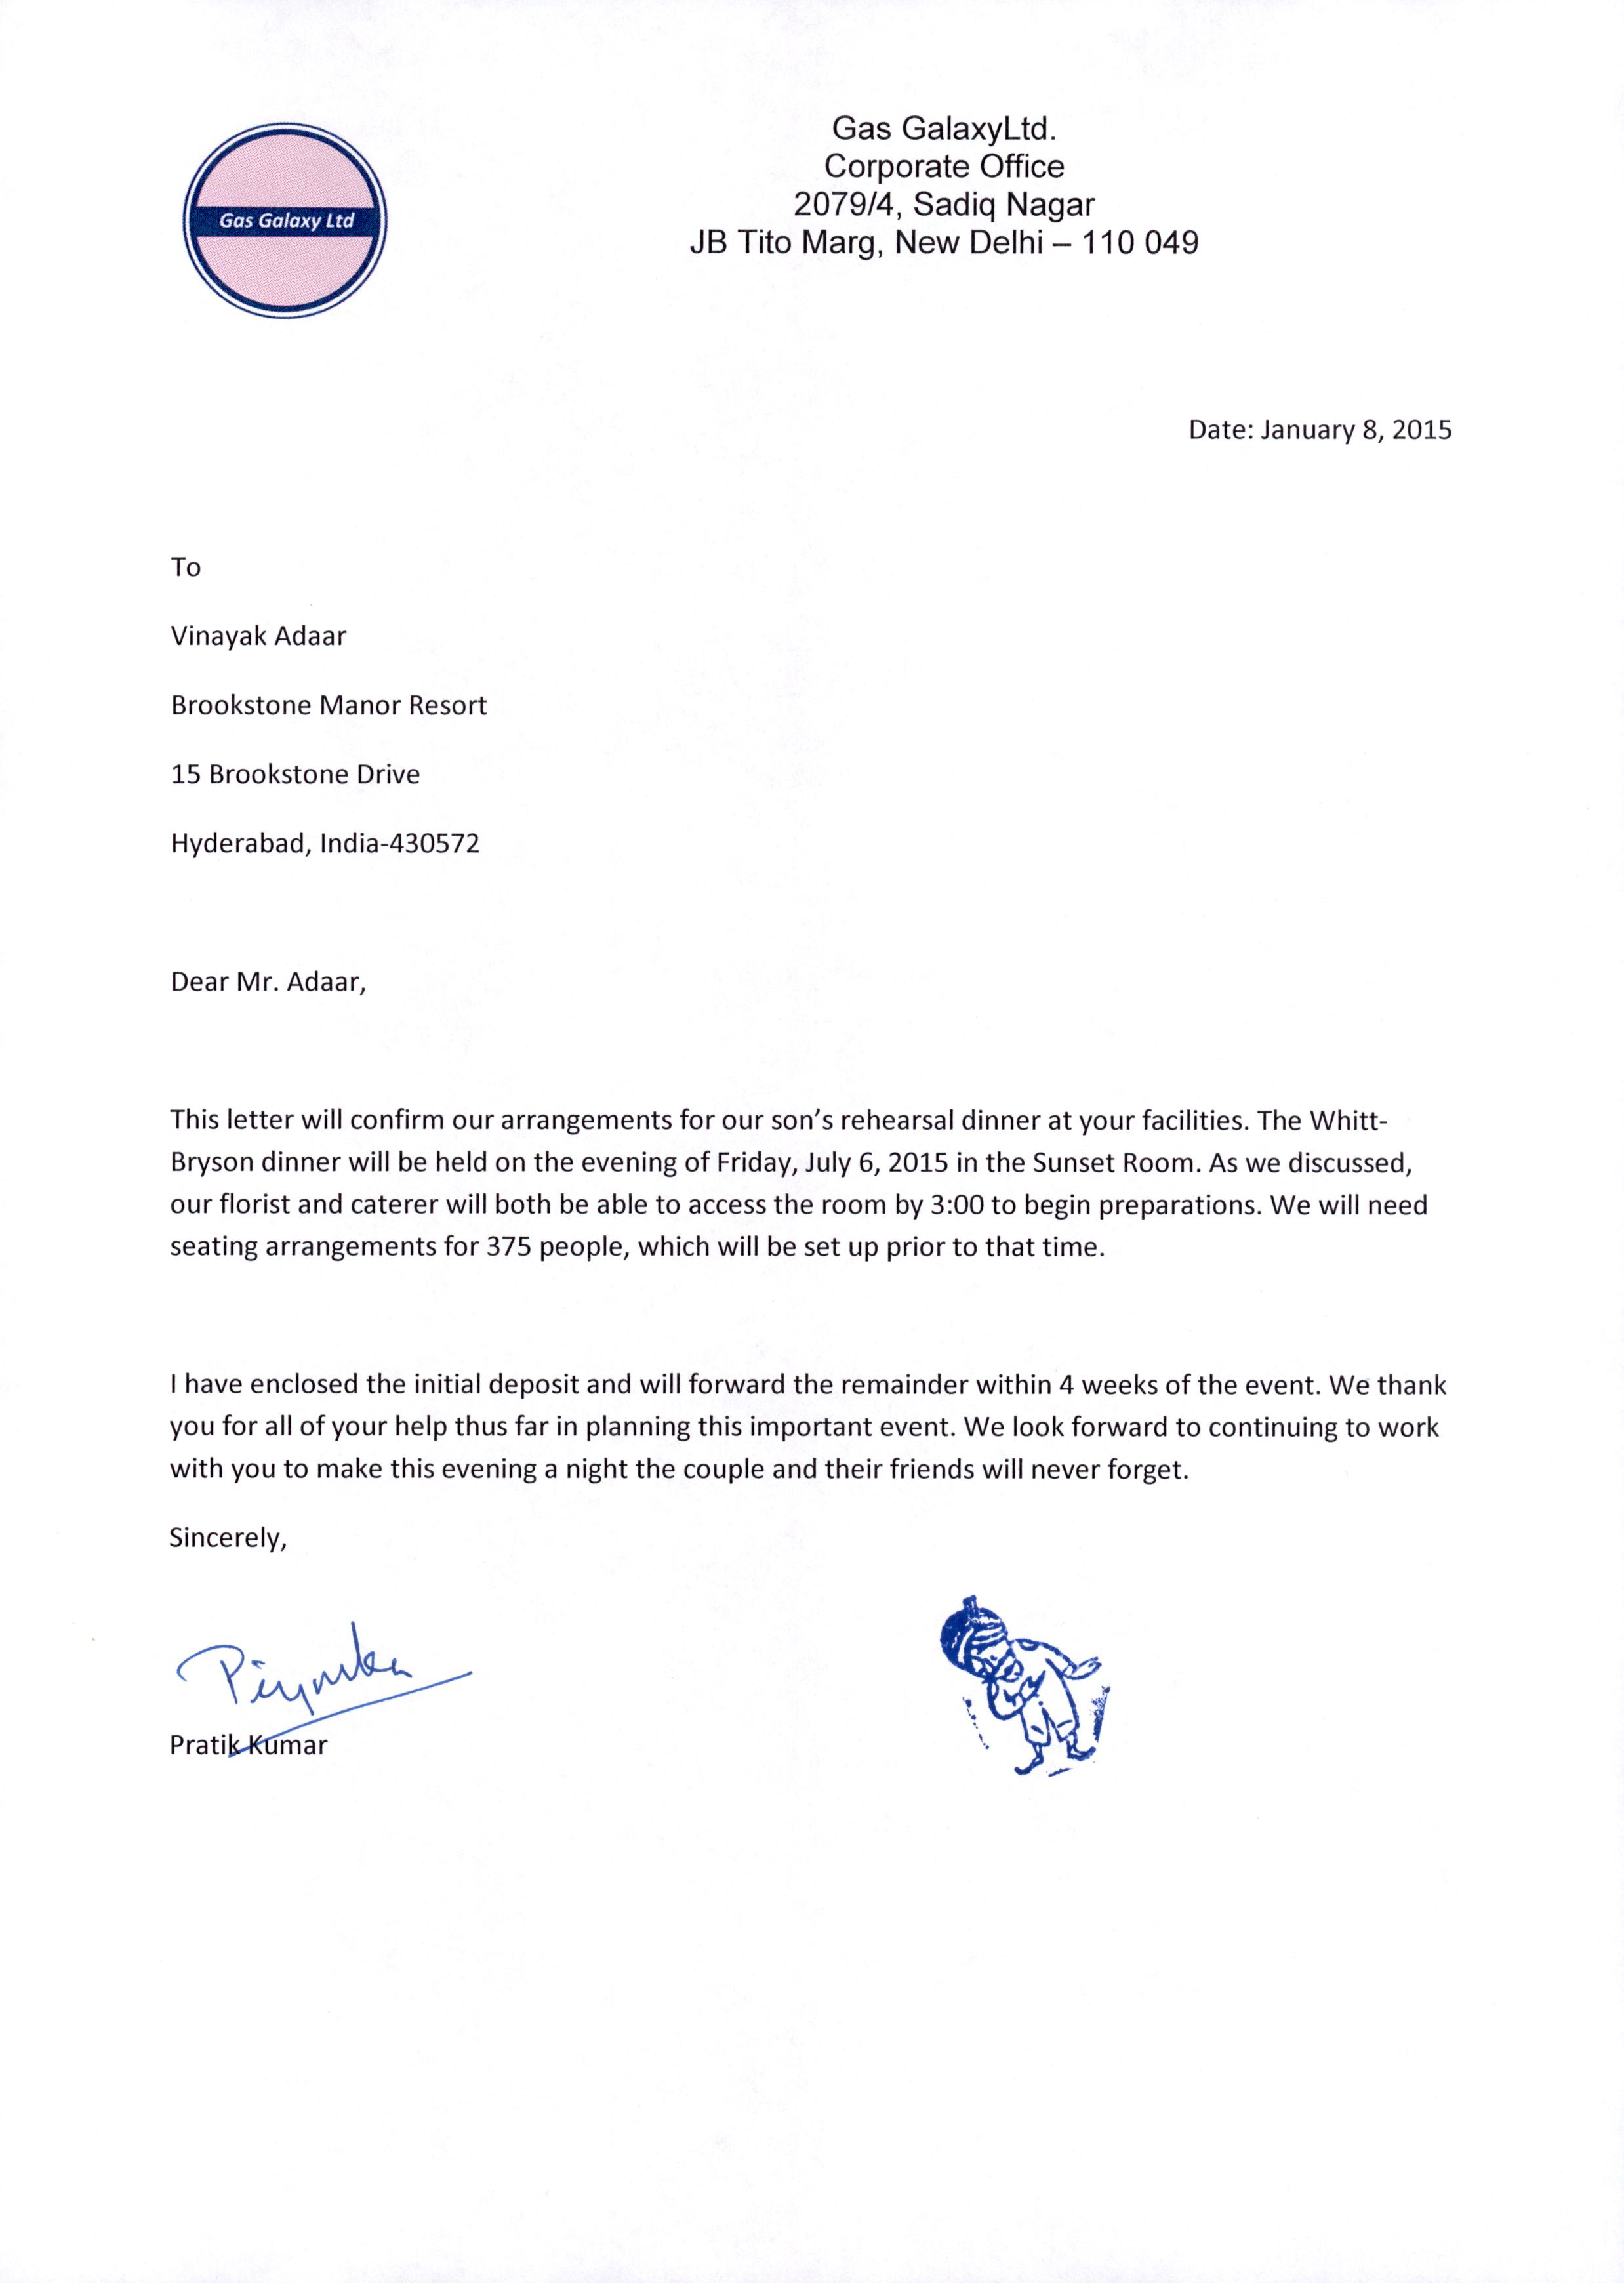Signature: (176, 1606, 483, 1736)
